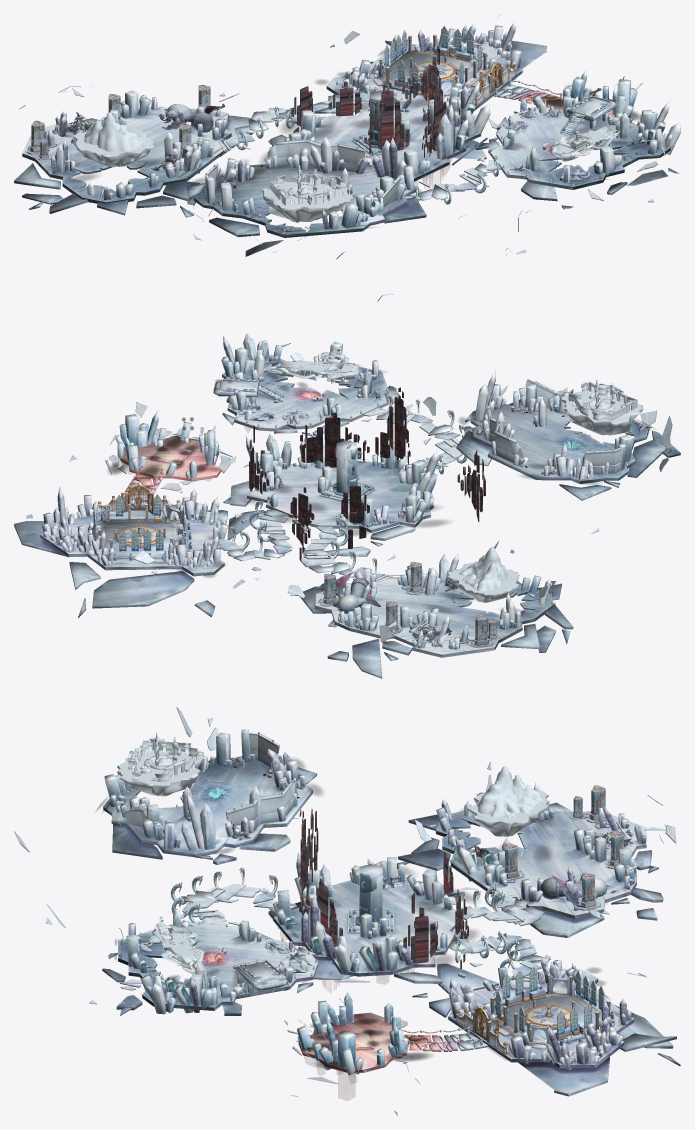
Rendered from febg_mirrordimension_001_01.glb.
The picture shows the model from 3 angles, top to bottom: view 1: azimuth 30°, elevation 25°; view 2: azimuth 150°, elevation 25°; view 3: azimuth 270°, elevation 25°; orthographic projection. The views are drawn at different scales.
Visible parts, largest first — view 1: febg_mirrordimension_001_bg_07, febg_mirrordimension_001_bg_03, febg_mirrordimension_001_bg_02, febg_mirrordimension_001_bg_06, febg_mirrordimension_001_timeline_mirror_01_02, febg_mirrordimension_001_timeline_mirror_01_01, febg_mirrordimension_001_bg_01, febg_mirrordimension_001_diorama_ground_01, febg_mirrordimension_001_bg_04, febg_mirrordimension_001_stage_02, febg_mirrordimension_001_redmirror_01, febg_mirrordimension_001_diorama_volcano_01 (+10 smaller); view 2: febg_mirrordimension_001_bg_07, febg_mirrordimension_001_bg_03, febg_mirrordimension_001_timeline_mirror_01_02, febg_mirrordimension_001_timeline_mirror_01_01, febg_mirrordimension_001_bg_01, febg_mirrordimension_001_bg_06, febg_mirrordimension_001_bg_02, febg_mirrordimension_001_bg_05, febg_mirrordimension_001_bg_04, febg_mirrordimension_001_redmirror_01, febg_mirrordimension_001_stage_02, febg_mirrordimension_001_diorama_ground_01 (+11 smaller); view 3: febg_mirrordimension_001_bg_07, febg_mirrordimension_001_bg_03, febg_mirrordimension_001_bg_06, febg_mirrordimension_001_bg_01, febg_mirrordimension_001_bg_02, febg_mirrordimension_001_timeline_mirror_01_02, febg_mirrordimension_001_bg_05, febg_mirrordimension_001_timeline_mirror_01_01, febg_mirrordimension_001_redmirror_01, febg_mirrordimension_001_bg_04, febg_mirrordimension_001_diorama_volcano_01, febg_mirrordimension_001_stage_02 (+11 smaller).
Part boxes in pixels (box(x1,y1,x2,y2)): febg_mirrordimension_001_bg_07: box(14, 39, 678, 256); febg_mirrordimension_001_bg_03: box(22, 106, 231, 203); febg_mirrordimension_001_bg_02: box(489, 106, 670, 189); febg_mirrordimension_001_bg_06: box(193, 164, 416, 237); febg_mirrordimension_001_timeline_mirror_01_02: box(291, 46, 459, 157); febg_mirrordimension_001_timeline_mirror_01_01: box(291, 47, 459, 157); febg_mirrordimension_001_bg_01: box(288, 105, 480, 181); febg_mirrordimension_001_diorama_ground_01: box(261, 176, 353, 222); febg_mirrordimension_001_bg_04: box(326, 39, 522, 111); febg_mirrordimension_001_stage_02: box(373, 49, 489, 99); febg_mirrordimension_001_redmirror_01: box(520, 69, 637, 120); febg_mirrordimension_001_diorama_volcano_01: box(84, 112, 143, 151); febg_mirrordimension_001_bg_07: box(14, 372, 680, 678); febg_mirrordimension_001_bg_03: box(315, 577, 553, 657); febg_mirrordimension_001_timeline_mirror_01_02: box(249, 387, 485, 560); febg_mirrordimension_001_timeline_mirror_01_01: box(249, 388, 485, 560); febg_mirrordimension_001_bg_01: box(247, 460, 433, 532); febg_mirrordimension_001_bg_06: box(470, 401, 649, 483); febg_mirrordimension_001_bg_02: box(222, 358, 388, 431); febg_mirrordimension_001_bg_05: box(118, 436, 221, 507); febg_mirrordimension_001_bg_04: box(40, 510, 224, 576); febg_mirrordimension_001_redmirror_01: box(115, 409, 219, 478); febg_mirrordimension_001_stage_02: box(89, 517, 188, 559); febg_mirrordimension_001_diorama_ground_01: box(561, 387, 643, 435); febg_mirrordimension_001_bg_07: box(102, 767, 680, 1096); febg_mirrordimension_001_bg_03: box(436, 810, 646, 918); febg_mirrordimension_001_bg_06: box(103, 756, 312, 857); febg_mirrordimension_001_bg_01: box(273, 877, 463, 976); febg_mirrordimension_001_bg_02: box(118, 922, 318, 1010); febg_mirrordimension_001_timeline_mirror_01_02: box(299, 809, 468, 968); febg_mirrordimension_001_bg_05: box(298, 1012, 488, 1072); febg_mirrordimension_001_timeline_mirror_01_01: box(299, 809, 468, 968); febg_mirrordimension_001_redmirror_01: box(297, 992, 408, 1075); febg_mirrordimension_001_bg_04: box(448, 971, 634, 1068); febg_mirrordimension_001_diorama_volcano_01: box(477, 766, 543, 818); febg_mirrordimension_001_stage_02: box(490, 990, 614, 1049).
Bounding box in the file's own units: 232 × 64.4 × 218.
Materials: 25 (25 with a texture image).
